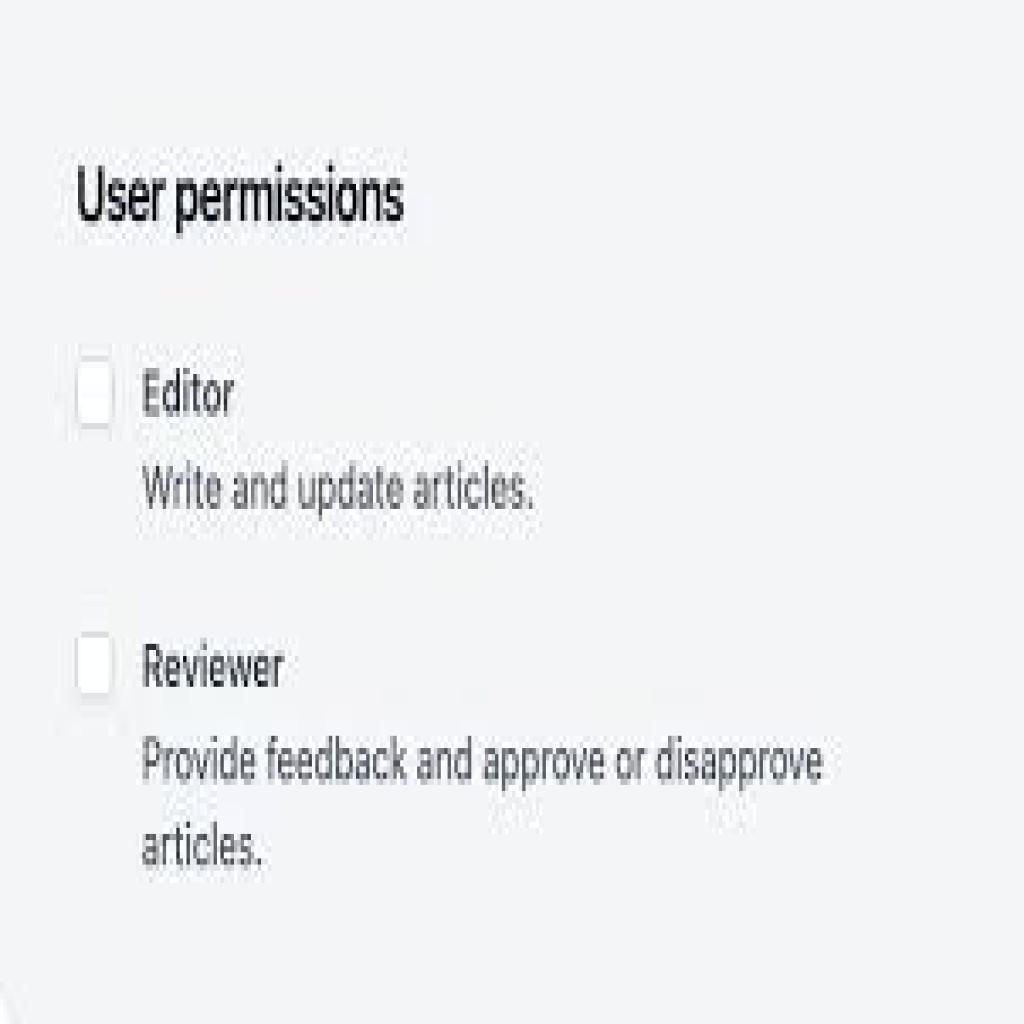checkbox: (74, 360, 116, 427), (75, 636, 115, 696)
